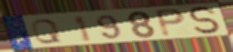1: (73, 14, 93, 43)
8: (126, 10, 157, 39)
9: (95, 14, 123, 40)
P: (153, 7, 187, 38)
Q: (30, 18, 64, 45)
S: (187, 5, 224, 35)
